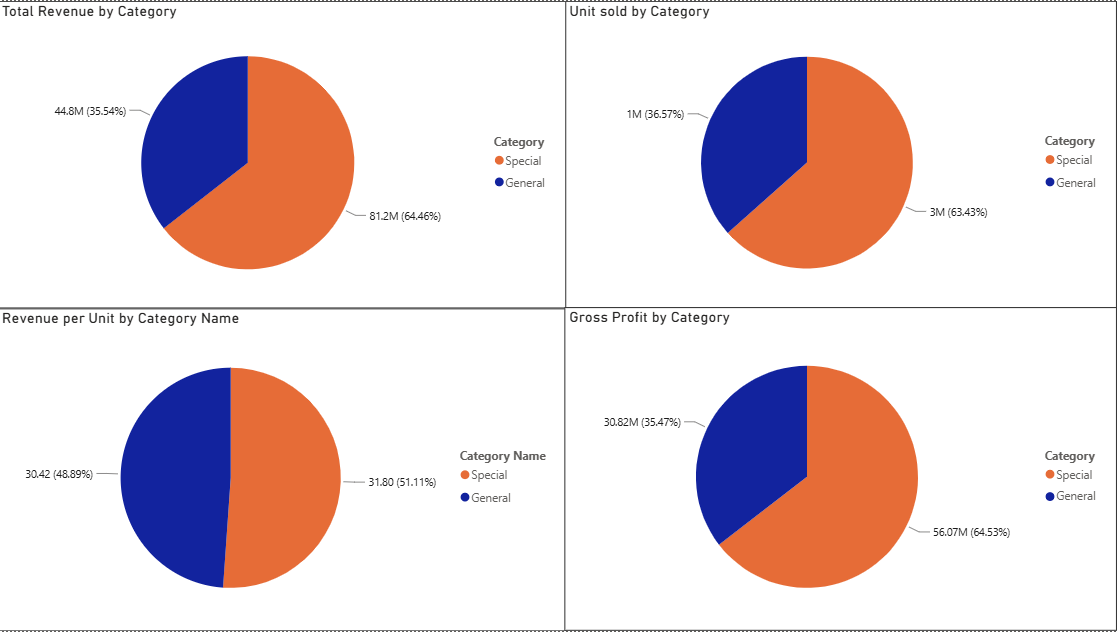

The page's visual inventory and layout, read from the dashboard file:
{"tool":"powerbi","page":{"name":"Category / Subcategory KPI","canvas":[1280,720],"ordinal":6},"visuals":[{"type":"pieChart","fields":{"Y":["FactSales.Revenue per Unit"],"Category":["Dim.Categories.Category","Dim.SubCategory.SubCategory Name"]},"box":[0,351.4,650,368.6],"z":0},{"type":"pieChart","title":"Unit sold by Category","fields":{"Category":["Dim.Categories.Category","Dim.SubCategory.SubCategory Name"],"Y":["Sum(FactSales.Units)"]},"box":[649,0,631,351],"z":1000},{"type":"pieChart","fields":{"Category":["Dim.Categories.Category","Dim.SubCategory.SubCategory Name"],"Y":["FactSales.Total Revenue"]},"box":[0,0,650,351.4],"z":2000},{"type":"pieChart","fields":{"Category":["Dim.Categories.Category","Dim.SubCategory.SubCategory Name"],"Y":["FactSales.Gross Profit"]},"box":[649,350.7,631,369.3],"z":3000}]}

Visuals, with their boxes in screenshot pixels (x1, y1, x2, y2), scaled from the page's 1280x720 canvas onto the 1117x632 screenshot:
pieChart - FactSales.Revenue per Unit x Dim.Categories.Category: box=[0, 308, 567, 631]
"Unit sold by Category" pieChart: box=[566, 0, 1116, 308]
pieChart - Dim.Categories.Category x Dim.SubCategory.SubCategory Name: box=[0, 0, 567, 308]
pieChart - Dim.Categories.Category x Dim.SubCategory.SubCategory Name: box=[566, 308, 1116, 631]
